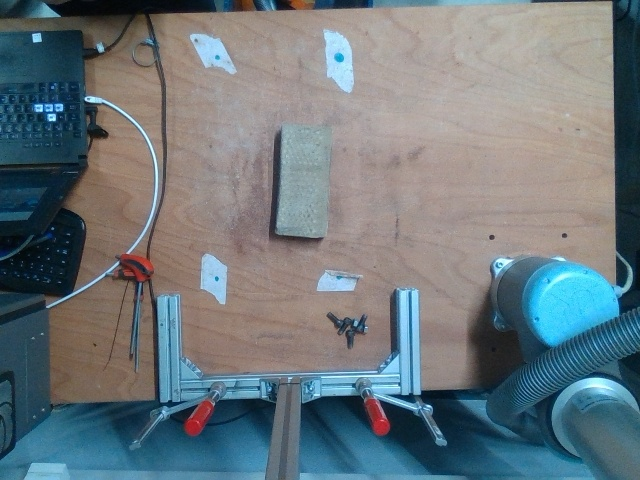brick: (275, 121, 333, 238)
